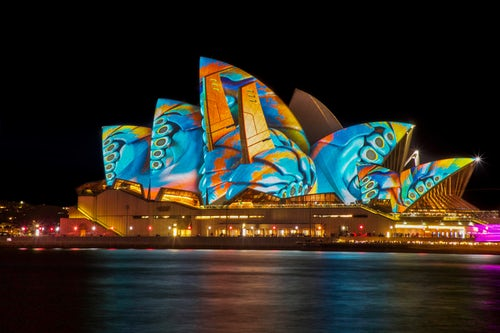opera house: (30, 46, 499, 254)
